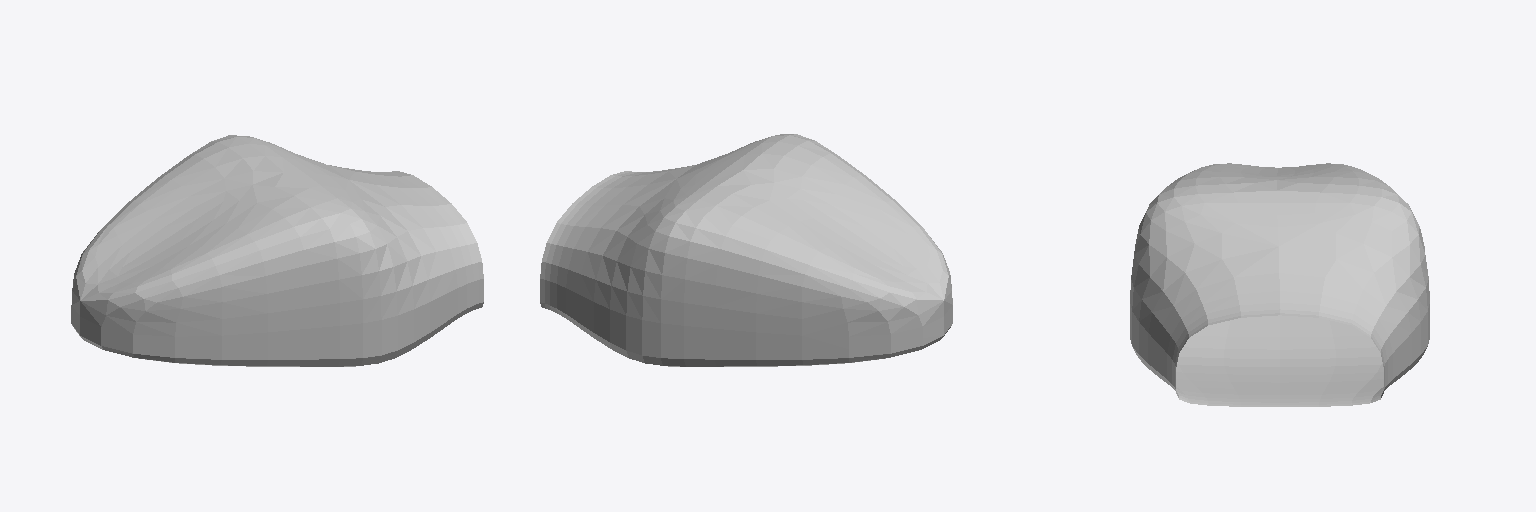
Rendered from head.obj.
3 views of the same model, side by side, from view 1: azimuth 30°, elevation 25°; view 2: azimuth 150°, elevation 25°; view 3: azimuth 270°, elevation 25° (orthographic).
Visible parts, largest first — view 1: Head_Cube.002; view 2: Head_Cube.002; view 3: Head_Cube.002.
Part boxes in pixels (x1,y1,x2,y2): Head_Cube.002: (71, 135, 483, 366); Head_Cube.002: (540, 134, 952, 366); Head_Cube.002: (1130, 163, 1429, 406).
Bounding box in the file's own units: 0.984 × 0.4191 × 0.7268.